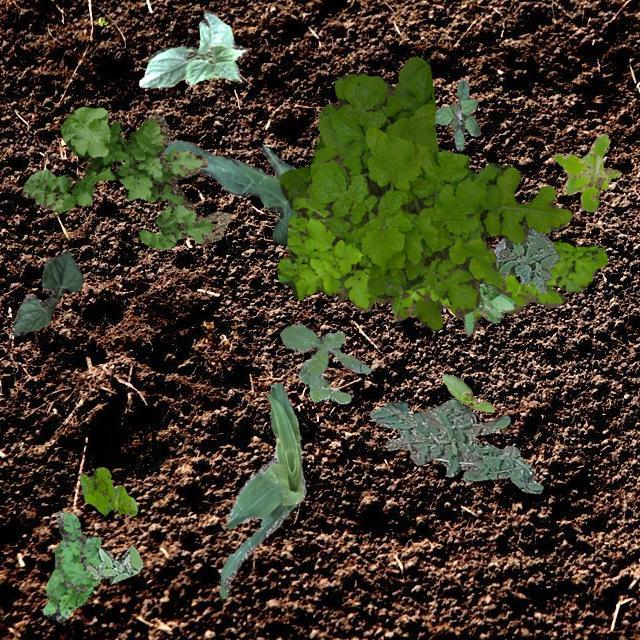crop: (218, 382, 304, 600), (162, 140, 300, 244), (137, 9, 245, 86), (9, 250, 82, 334), (441, 372, 494, 412)
weed: (304, 112, 570, 316), (278, 56, 442, 330), (276, 196, 606, 320), (21, 105, 230, 248), (368, 398, 542, 492), (278, 322, 369, 402), (42, 510, 100, 620), (552, 132, 620, 210), (492, 225, 558, 292), (434, 78, 479, 150), (462, 280, 516, 334), (78, 468, 136, 514), (86, 544, 142, 584)
